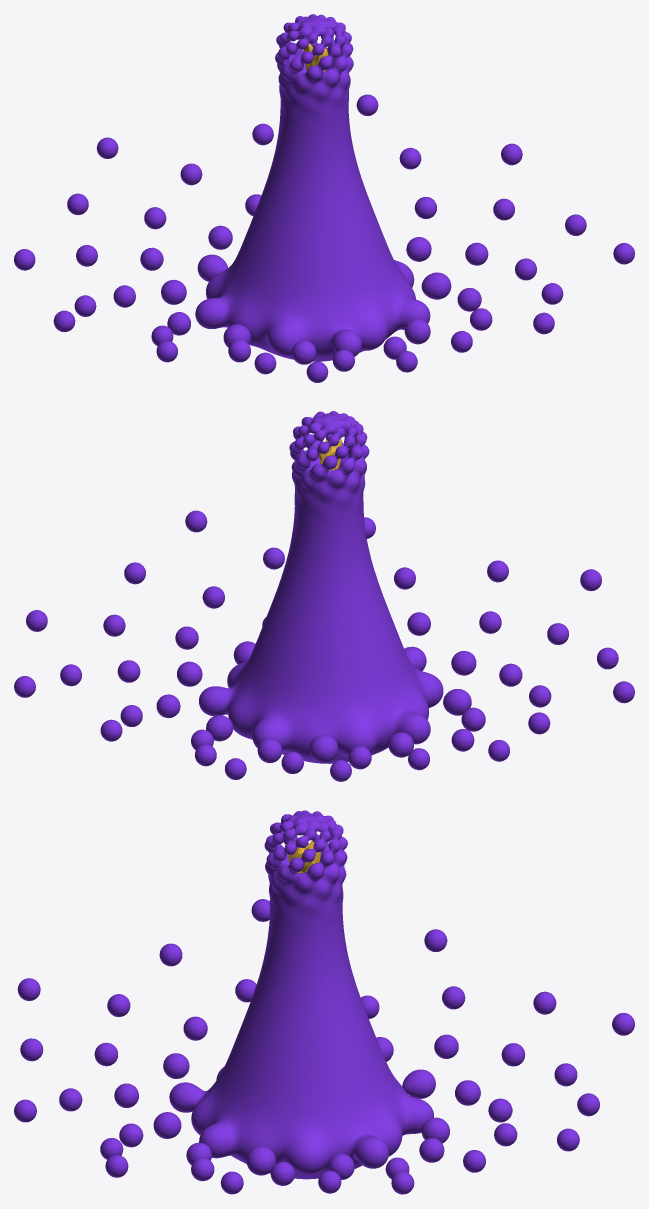
The model's file is tophat.glb.
The picture shows the model from 3 angles, top to bottom: view 1: azimuth 30°, elevation 25°; view 2: azimuth 150°, elevation 25°; view 3: azimuth 270°, elevation 25°; orthographic projection. The views are drawn at different scales.
Parts seen in each view (by area): view 1: tophat; view 2: tophat; view 3: tophat.
Boxes of the visible parts, left/top/right/bottom form: tophat: left=14, top=14, right=634, bottom=382; tophat: left=14, top=411, right=634, bottom=781; tophat: left=14, top=810, right=634, bottom=1194.
Bounding box in the file's own units: 14.54 × 8.68 × 13.86.
